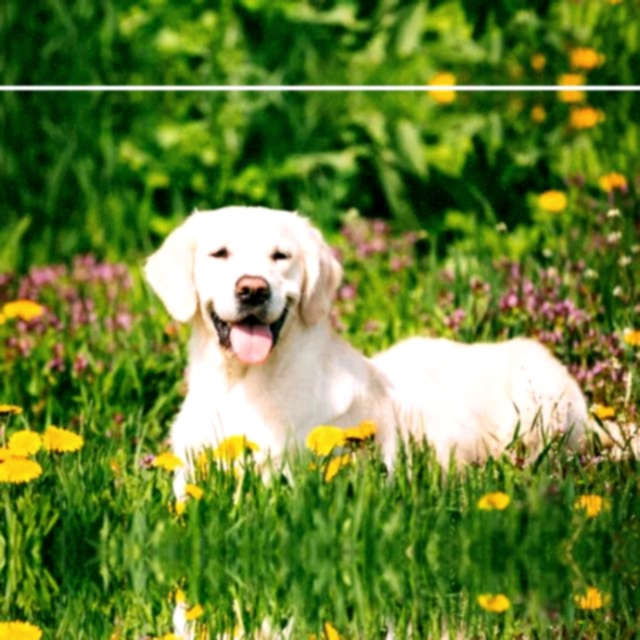dog: (134, 183, 598, 472), (134, 629, 598, 640)
